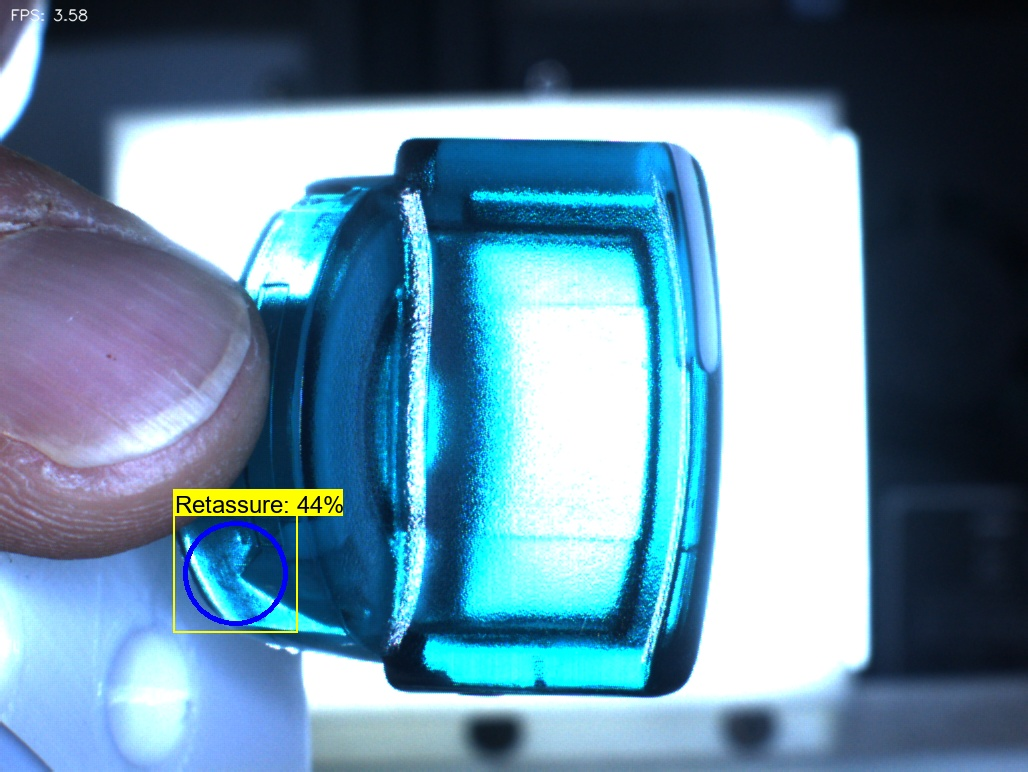Bulle: (499, 642, 583, 722)
